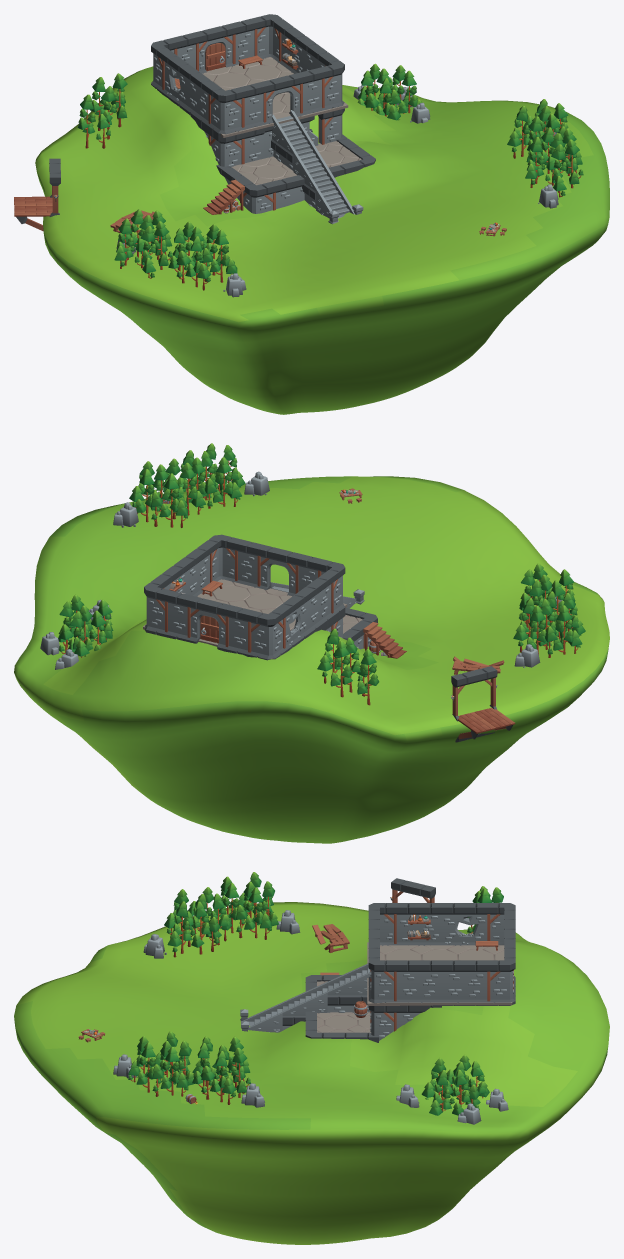
The model's file is Spawn Area Polished.fbx.
3 views of the same model, one above another, from view 1: azimuth 30°, elevation 25°; view 2: azimuth 150°, elevation 25°; view 3: azimuth 270°, elevation 25° (orthographic). The views are drawn at different scales.
Parts seen in each view (by area): view 1: Cube.040, wall_corner_scaffold.016, stairs_long.002, stairs_long.003, wall_doorway_scaffold.004, wall_doorway_scaffold.003, wall_corner_scaffold.014, floor_tile_large.025, wall_shelves.003, wall_broken.003, floor_tile_large.028, wall_corner_scaffold.017 (+18 smaller); view 2: Cube.040, wall_corner_scaffold.015, wall_doorway_scaffold.003, wall_doorway_scaffold.004, wall_corner_scaffold.017, floor_tile_large.023, wall_shelves.003, wall_corner_scaffold.014, wall_broken.003, wall.027, wall_open_scaffold.012, wall_half.013 (+10 smaller); view 3: Cube.040, wall_shelves.002, wall.027, wall_shelves.003, wall_broken.003, wall_corner_scaffold.014, wall_corner_scaffold.017, stairs_long.002, stairs_long.003, floor_tile_large.027, floor_tile_large.026, floor_tile_large.024 (+8 smaller).
Boxes of the visible parts, box(x1,y1,x2,y2) form: Cube.040: box(35, 66, 609, 414); wall_corner_scaffold.016: box(207, 84, 245, 136); stairs_long.002: box(271, 110, 315, 157); stairs_long.003: box(293, 146, 337, 194); wall_doorway_scaffold.004: box(259, 73, 303, 124); wall_doorway_scaffold.003: box(192, 23, 236, 73); wall_corner_scaffold.014: box(250, 14, 288, 62); floor_tile_large.025: box(217, 57, 293, 86); wall_shelves.003: box(184, 68, 216, 127); wall_broken.003: box(162, 51, 193, 110); floor_tile_large.028: box(231, 156, 296, 185); wall_corner_scaffold.017: box(318, 56, 344, 110); Cube.040: box(14, 476, 609, 843); wall_corner_scaffold.015: box(247, 608, 286, 660); wall_doorway_scaffold.003: box(186, 596, 232, 651); wall_doorway_scaffold.004: box(256, 544, 302, 596); wall_corner_scaffold.017: box(203, 534, 241, 582); floor_tile_large.023: box(197, 579, 278, 609); wall_shelves.003: box(300, 573, 333, 634); wall_corner_scaffold.014: box(144, 578, 171, 636); wall_broken.003: box(277, 591, 310, 651); wall.027: box(179, 544, 212, 596); wall_open_scaffold.012: box(451, 666, 497, 721); wall_half.013: box(166, 591, 191, 641); Cube.040: box(14, 902, 609, 1244); wall_shelves.002: box(442, 960, 487, 1005); wall.027: box(396, 960, 441, 1005); wall_shelves.003: box(396, 903, 441, 945); wall_broken.003: box(442, 903, 487, 945); wall_corner_scaffold.014: box(487, 953, 515, 1005); wall_corner_scaffold.017: box(368, 953, 396, 1003); stairs_long.002: box(327, 963, 370, 998); stairs_long.003: box(282, 982, 327, 1018); floor_tile_large.027: box(317, 1012, 370, 1032); floor_tile_large.026: box(439, 945, 504, 960); floor_tile_large.024: box(367, 942, 439, 963).
Size of the model in its own units: 10448 by 5627 by 10531.
Materials: 26 (26 with a texture image).
